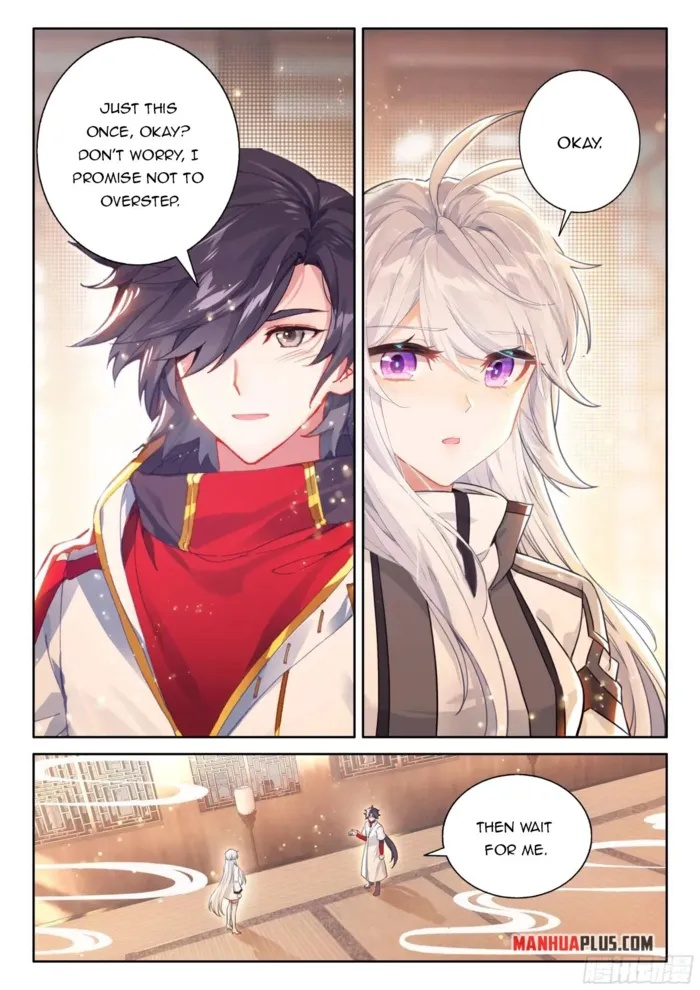bubbles: (36, 33, 251, 296), (514, 64, 648, 248), (420, 773, 599, 904)
